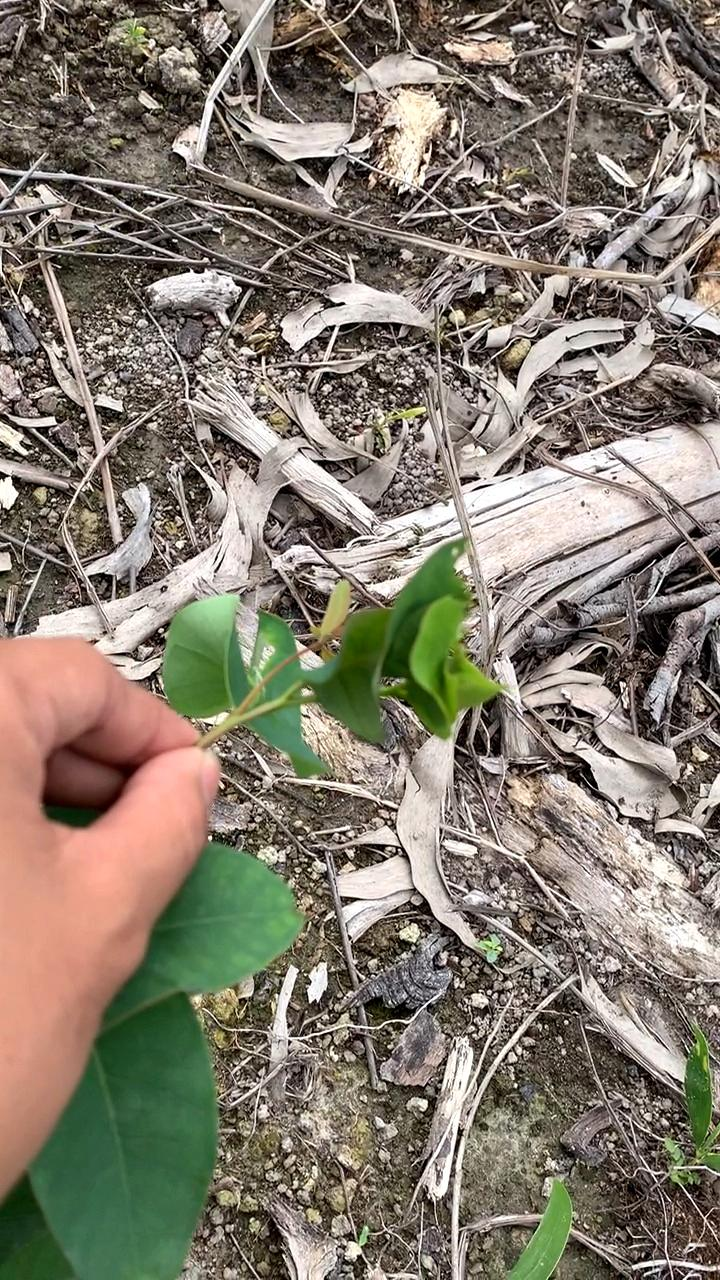Leaf Roller - Leaf: (330, 548, 501, 757)
